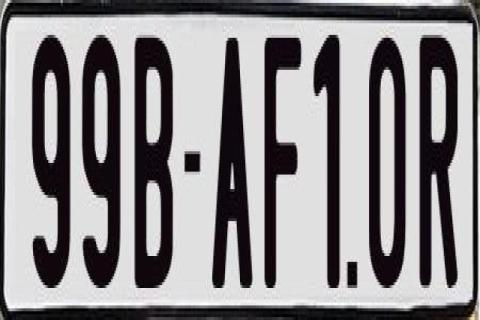0: (80, 32, 122, 300), (30, 35, 69, 297), (367, 32, 404, 291), (312, 26, 340, 282)
A: (210, 29, 253, 297)
B: (133, 35, 173, 297)
F: (261, 38, 298, 300)
R: (417, 29, 455, 291)
